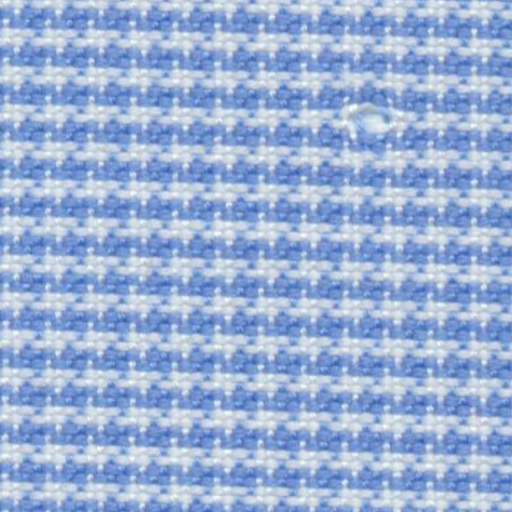PoDong: (316, 83, 417, 158)
